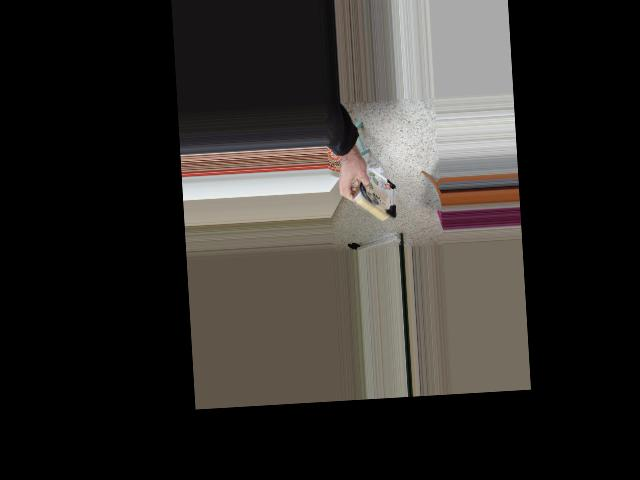cheese: (334, 167, 415, 237)
